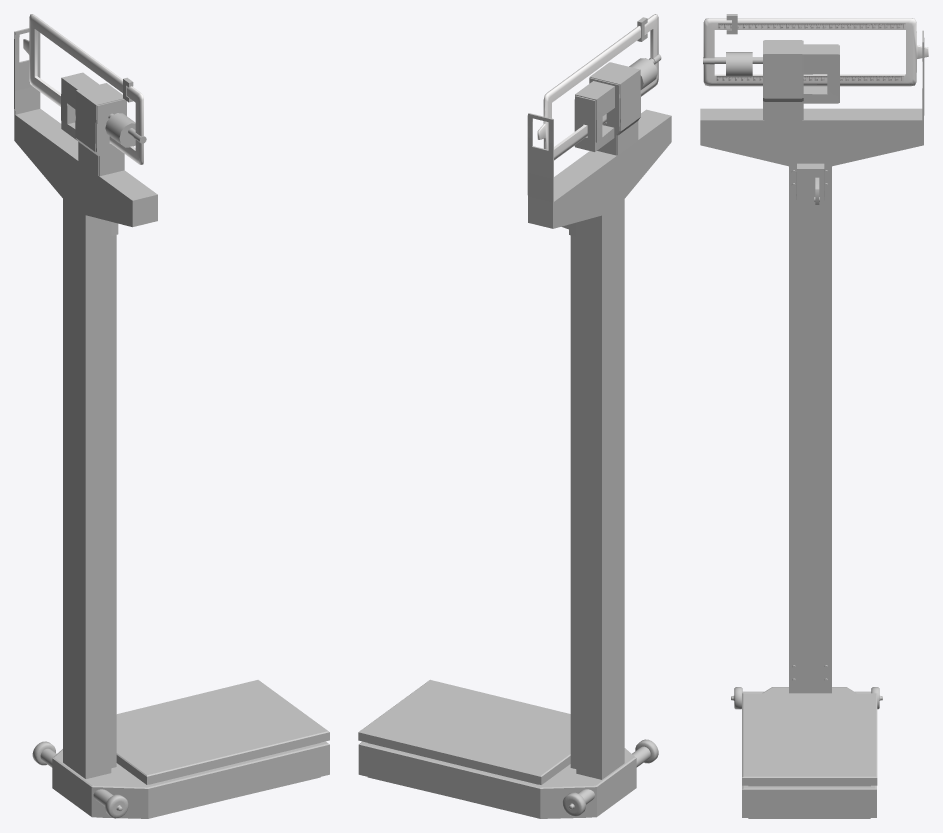
Rendered from bascula.FBX.
3 views of the same model, side by side, from view 1: azimuth 30°, elevation 25°; view 2: azimuth 150°, elevation 25°; view 3: azimuth 270°, elevation 25° (orthographic). The views are drawn at different scales.
Visible parts, largest first — view 1: Pintura_Blanca_bascalula_2, Pintura_negra_bascalula_2, Medidor_bascuca_2; view 2: Pintura_Blanca_bascalula_2, Pintura_negra_bascalula_2, Medidor_bascuca_2; view 3: Pintura_negra_bascalula_2, Pintura_Blanca_bascalula_2, Medidor_bascuca_2.
Part boxes in pixels (x1=…): Pintura_Blanca_bascalula_2: x1=14, y1=28, x2=329, y2=818; Pintura_negra_bascalula_2: x1=32, y1=72, x2=329, y2=818; Medidor_bascuca_2: x1=23, y1=14, x2=143, y2=164; Pintura_Blanca_bascalula_2: x1=358, y1=109, x2=671, y2=818; Pintura_negra_bascalula_2: x1=358, y1=17, x2=658, y2=816; Medidor_bascuca_2: x1=537, y1=14, x2=658, y2=160; Pintura_negra_bascalula_2: x1=726, y1=14, x2=879, y2=786; Pintura_Blanca_bascalula_2: x1=700, y1=30, x2=924, y2=818; Medidor_bascuca_2: x1=703, y1=18, x2=928, y2=86.
Size of the model in its own units: 0.6305 by 2.02 by 0.5866.
